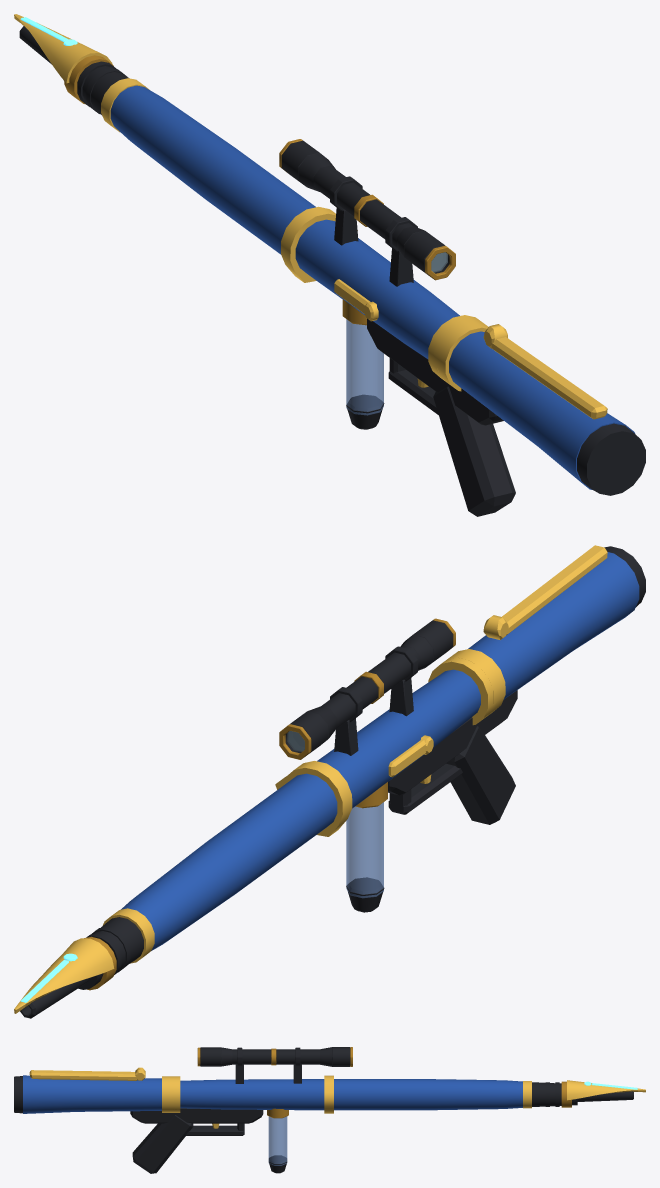
The model's file is w_dmr@dmr_pen.glb.
The picture shows the model from 3 angles, top to bottom: view 1: azimuth 30°, elevation 25°; view 2: azimuth 150°, elevation 25°; view 3: azimuth 270°, elevation 25°; orthographic projection. The views are drawn at different scales.
Visible parts, largest first — view 1: body_wzA, stock_wzA, scope_wzB, grip_wzB, stock_wzN, stock_wzB, mag_wzN.001, band_wzN, frame_wzB, nib_wzN, grip2_wzB, mag_wzB (+3 smaller); view 2: body_wzA, stock_wzA, scope_wzB, grip_wzB, band_wzN, stock_wzN, mag_wzN.001, frame_wzB, nib_wzN, grip2_wzB, guard_wzB, mag_wzB (+3 smaller); view 3: body_wzA, stock_wzA, scope_wzB, grip_wzB, frame_wzB, stock_wzN, mag_wzN.001, band_wzN, grip2_wzB, nib_wzN, guard_wzB, barrel_wzB (+3 smaller).
Part boxes in pixels (x1=…): body_wzA: x1=110, y1=85, x2=459, y2=358; stock_wzA: x1=449, y1=331, x2=635, y2=489; scope_wzB: x1=281, y1=140, x2=449, y2=286; grip_wzB: x1=433, y1=386, x2=515, y2=516; stock_wzN: x1=433, y1=319, x2=607, y2=419; stock_wzB: x1=577, y1=423, x2=645, y2=495; mag_wzN.001: x1=346, y1=319, x2=383, y2=415; band_wzN: x1=101, y1=78, x2=479, y2=380; frame_wzB: x1=367, y1=318, x2=503, y2=425; nib_wzN: x1=14, y1=14, x2=112, y2=83; grip2_wzB: x1=77, y1=61, x2=128, y2=114; mag_wzB: x1=346, y1=394, x2=384, y2=429; body_wzA: x1=121, y1=669, x2=480, y2=950; stock_wzA: x1=468, y1=552, x2=639, y2=699; scope_wzB: x1=285, y1=620, x2=453, y2=756; grip_wzB: x1=446, y1=726, x2=515, y2=824; band_wzN: x1=102, y1=655, x2=496, y2=963; stock_wzN: x1=447, y1=545, x2=607, y2=718; mag_wzN.001: x1=346, y1=802, x2=383, y2=898; frame_wzB: x1=388, y1=690, x2=517, y2=795; nib_wzN: x1=14, y1=938, x2=114, y2=1013; grip2_wzB: x1=78, y1=917, x2=143, y2=989; guard_wzB: x1=388, y1=763, x2=462, y2=814; mag_wzB: x1=346, y1=877, x2=384, y2=912; body_wzA: x1=180, y1=1079, x2=522, y2=1110; stock_wzA: x1=23, y1=1075, x2=161, y2=1113; scope_wzB: x1=200, y1=1047, x2=350, y2=1083; grip_wzB: x1=132, y1=1115, x2=193, y2=1173; frame_wzB: x1=130, y1=1108, x2=263, y2=1123; stock_wzN: x1=29, y1=1067, x2=174, y2=1112; mag_wzN.001: x1=268, y1=1116, x2=287, y2=1165; band_wzN: x1=171, y1=1075, x2=531, y2=1113; grip2_wzB: x1=532, y1=1082, x2=577, y2=1106; nib_wzN: x1=567, y1=1080, x2=645, y2=1100; guard_wzB: x1=186, y1=1123, x2=244, y2=1135; barrel_wzB: x1=577, y1=1091, x2=633, y2=1101.
Size of the model in its own units: 0.0996 by 0.3265 by 1.52.
